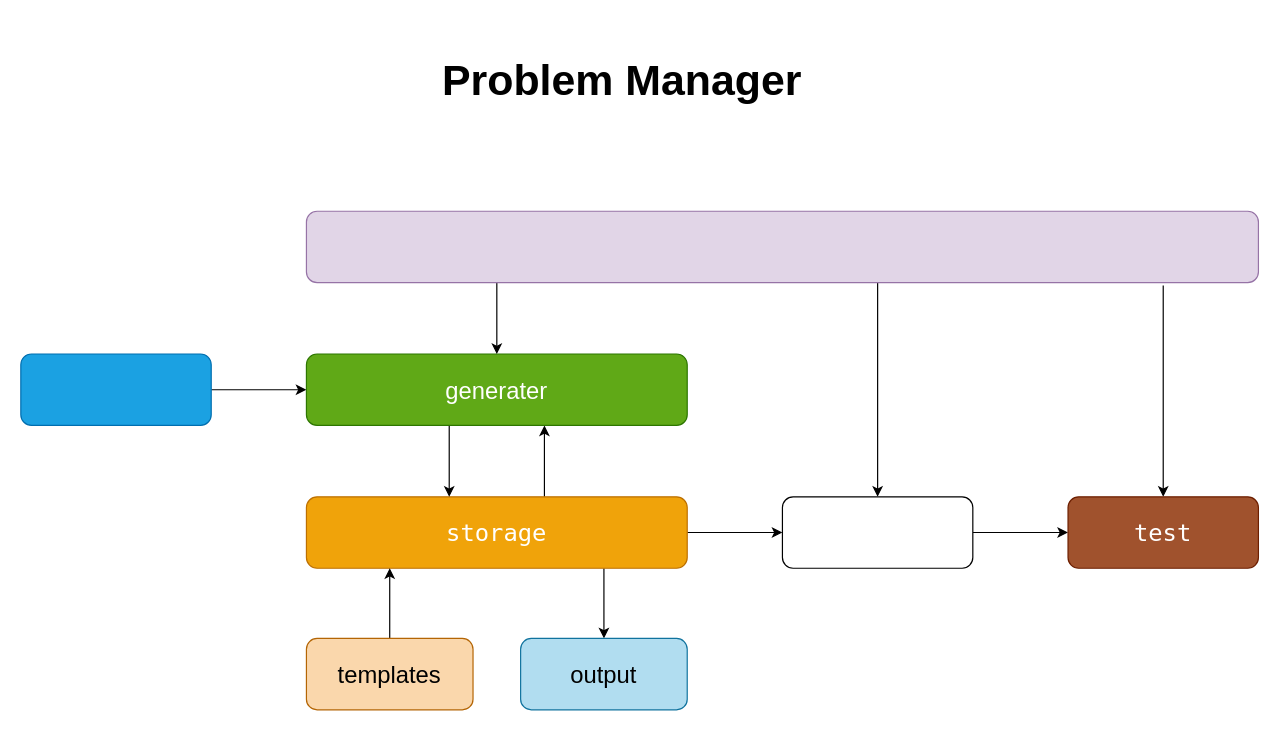
Some shapes in this 1279 by 731 pixel diagram are drawn without their labels. The shapes that lost their labels are listed below. From the top down, each one's centre as x and y in pixels, then its label:
At (781,246): "interface".
At (115,389): "request".
At (877,532): "problems file".
